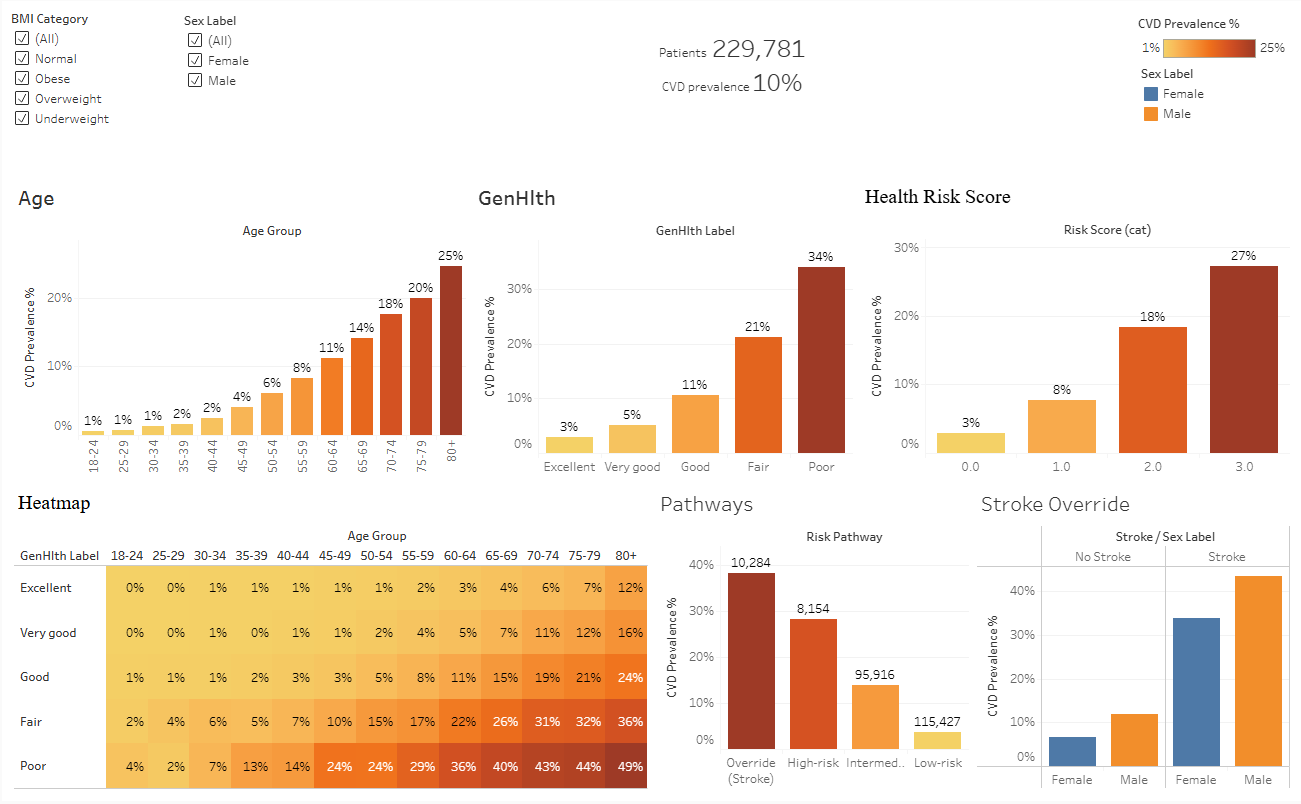

What the dashboard file says about the page in this screenshot:
{"tool":"tableau","page":{"name":"CVD Risk Overview","canvas":[1300,800],"ordinal":0},"visuals":[{"type":"worksheet","title":"KPIs","mark":"Automatic","box":[359,7,742,111]},{"type":"filter","title":"Age","param":"[federated.1jw7nbl05c24au1bma4rg1hbpy50].[none:BMI_Category:nk]","box":[9,8,168,127]},{"type":"filter","title":"Age","param":"[federated.1jw7nbl05c24au1bma4rg1hbpy50].[none:Sex_Label:nk]","box":[182,10,168,89]},{"type":"legend","title":"Age","param":"[federated.1jw7nbl05c24au1bma4rg1hbpy50].[usr:Calculation_0370812567101441:qk]","box":[1132,10,160,65]},{"type":"legend","title":"Stroke Override","param":"[federated.1jw7nbl05c24au1bma4rg1hbpy50].[none:Sex_Label:nk]","box":[1139,64,140,58]},{"type":"text","box":[8,140,1284,32]},{"type":"worksheet","title":"Age","mark":"Automatic","rows":["Calculation_0370812567101441"],"cols":["Age_Group"],"box":[8,172,460,306]},{"type":"worksheet","title":"GenHlth","mark":"Automatic","rows":["Calculation_0370812567101441"],"cols":["GenHlth_Label"],"box":[468,172,387,306]},{"type":"worksheet","title":"Health Risk Score","mark":"Automatic","rows":["Calculation_0370812567101441"],"cols":["Calculation_0982690799828992"],"box":[855,172,437,306]},{"type":"worksheet","title":"Heatmap","mark":"Square","rows":["GenHlth_Label"],"cols":["Age_Group"],"box":[8,478,642,314]},{"type":"worksheet","title":"Pathways","mark":"Automatic","rows":["Calculation_0370812567101441"],"cols":["Risk_Pathway"],"box":[650,478,321,314]},{"type":"worksheet","title":"Stroke Override","mark":"Bar","rows":["Calculation_0370812567101441"],"cols":["Stroke","Sex_Label"],"box":[971,478,321,314]}]}

Visuals, with their boxes in screenshot pixels (x1, y1, x2, y2), scaled from the page's 1300x800 canvas onto the 1301x804 screenshot:
"KPIs" worksheet: x1=359, y1=7, x2=1102, y2=119
"Age" filter: x1=9, y1=8, x2=177, y2=136
"Age" filter: x1=182, y1=10, x2=350, y2=99
"Age" legend: x1=1133, y1=10, x2=1293, y2=75
"Stroke Override" legend: x1=1140, y1=64, x2=1280, y2=123
text: x1=8, y1=141, x2=1293, y2=173
"Age" worksheet: x1=8, y1=173, x2=468, y2=480
"GenHlth" worksheet: x1=468, y1=173, x2=856, y2=480
"Health Risk Score" worksheet: x1=856, y1=173, x2=1293, y2=480
"Heatmap" worksheet (Square marks): x1=8, y1=480, x2=650, y2=796
"Pathways" worksheet: x1=650, y1=480, x2=972, y2=796
"Stroke Override" worksheet (Bar marks): x1=972, y1=480, x2=1293, y2=796
